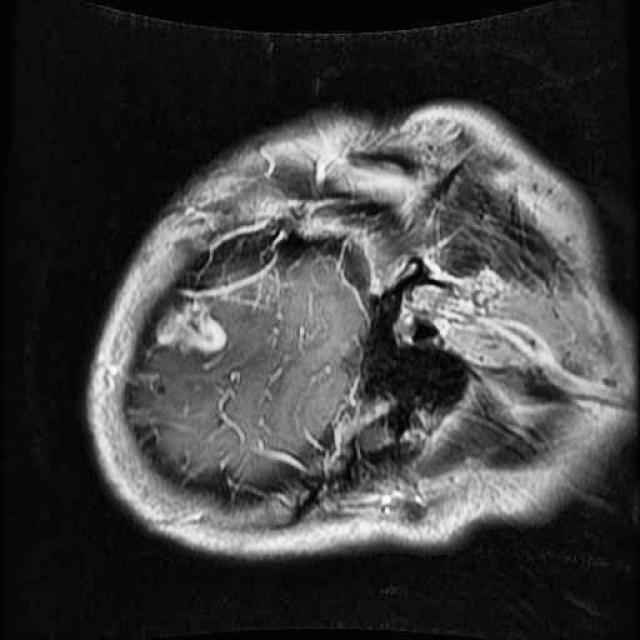Non-Tumor: (143, 278, 234, 370)
